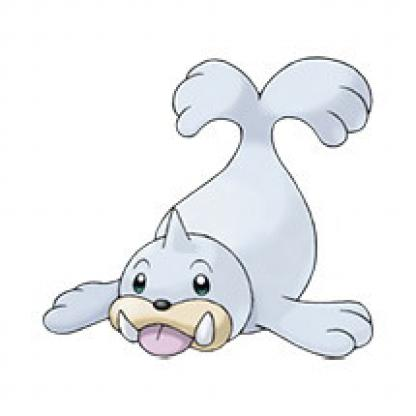Seel: (31, 40, 416, 364)
